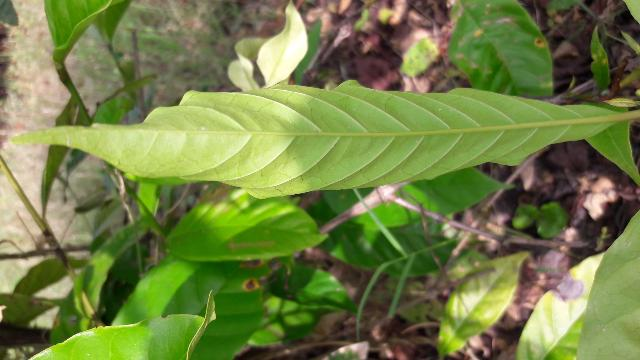healthy: (10, 78, 620, 200)
